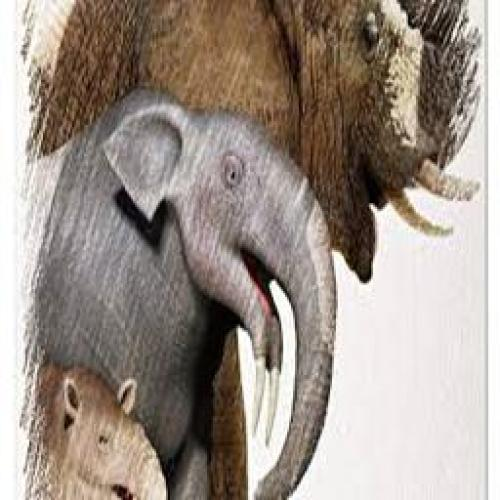african_elephant-endangered: (35, 0, 478, 500), (35, 86, 337, 495), (27, 356, 162, 500)
